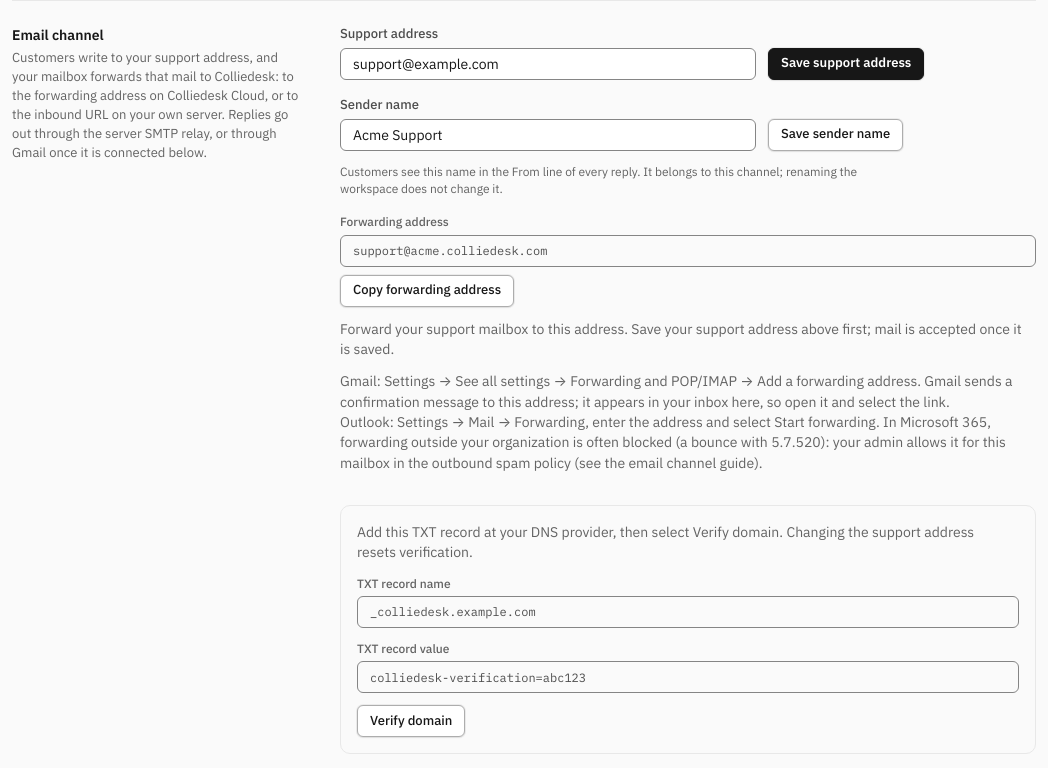
Test: shows the hosted forwarding address with a copy button and the Gmail and Outlook steps
Expected: the field labelled "Forwarding address" holds "support@acme.colliedesk.com", [340,235,1036,267]
Click the button "Copy forwarding address": (427,291) [340,275,514,307]
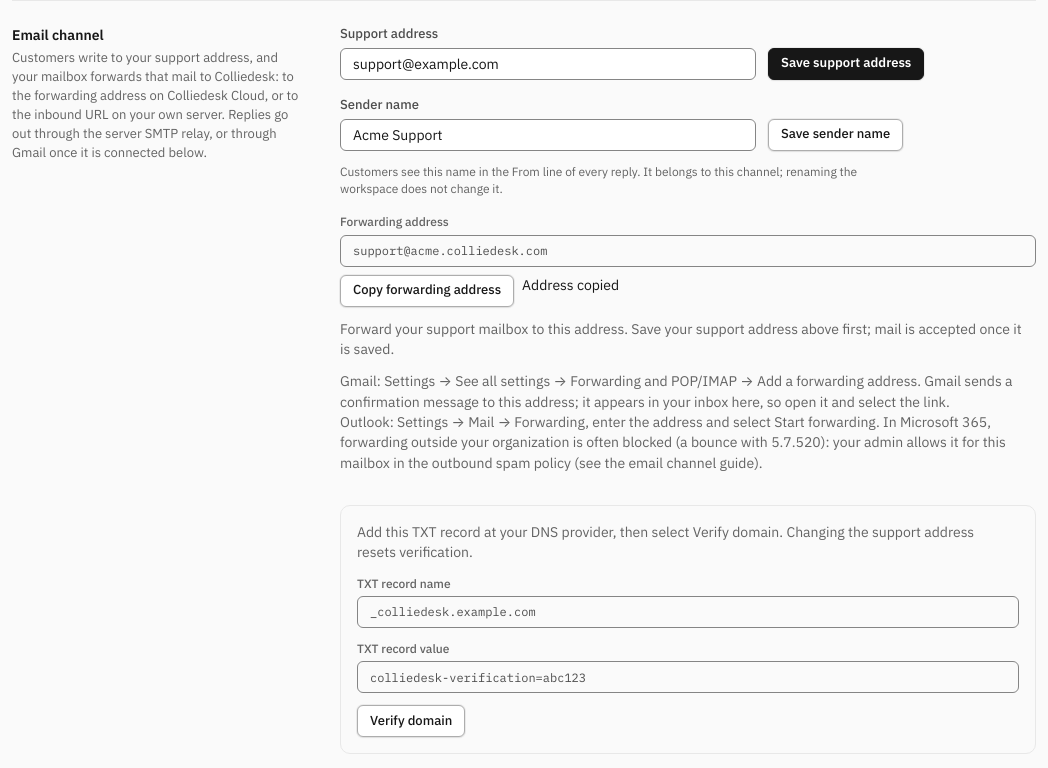
Expected: the list item "Forwarding and POP/IMAP" is shown, [340,372,1012,411]
Expected: the text "Address copied" is shown, [522,276,619,294]
